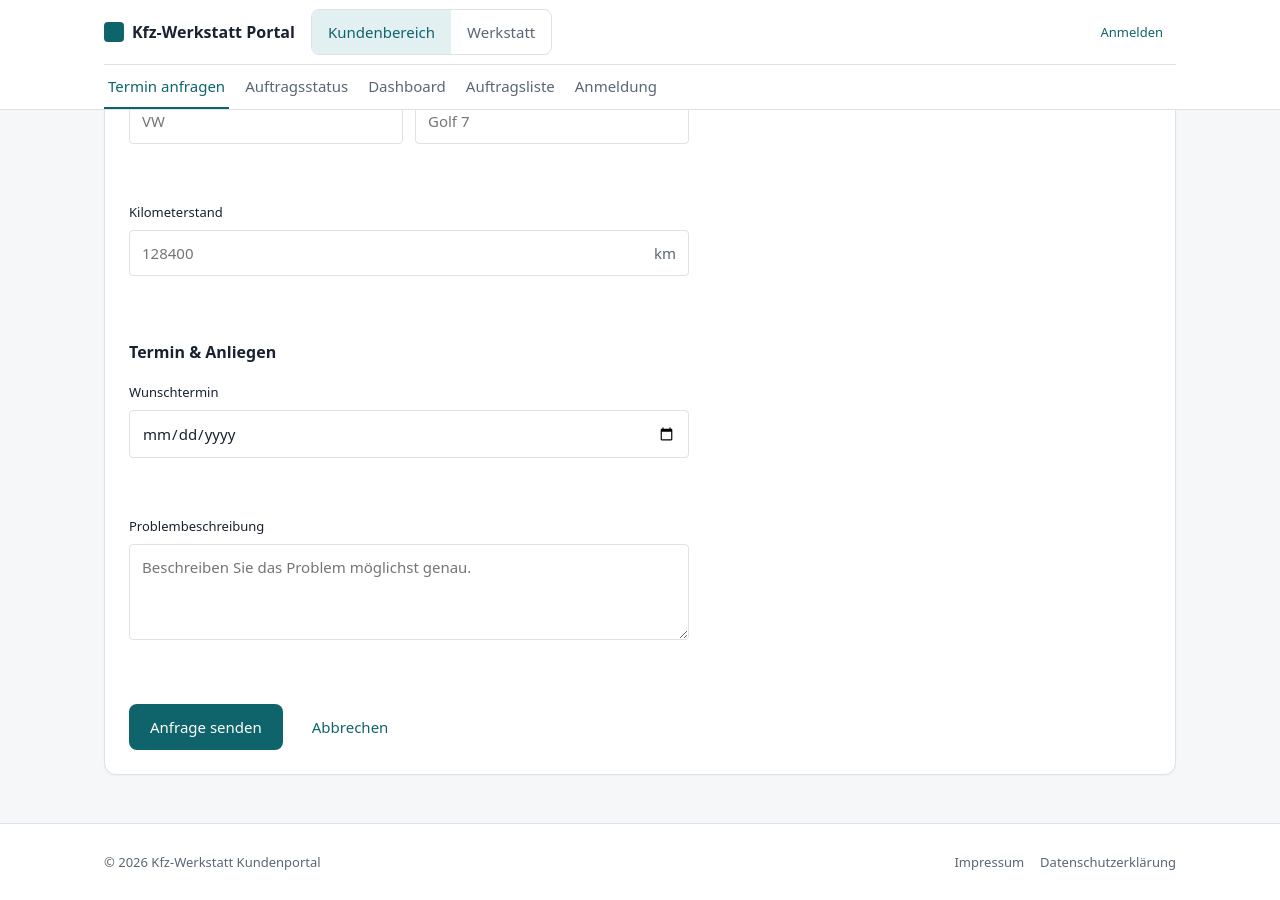
Scenario: footer legal links › opens the Datenschutzerklärung from another page
This screenshot has width=1280, height=900.
(page scrolled)
Click the link "Datenschutzerklärung" at (1108, 862), box [1040,853,1176,871]
(page scrolled)
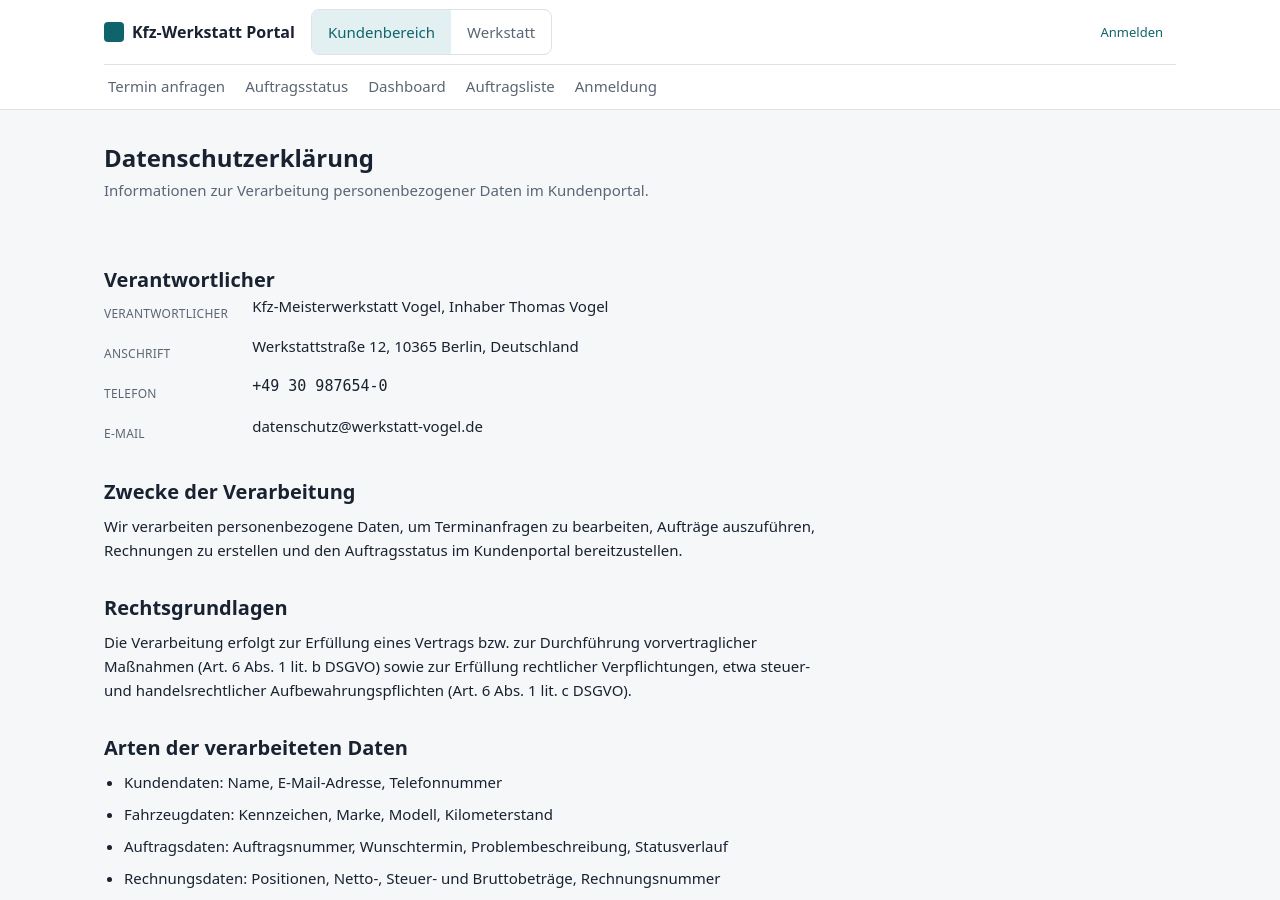
Now the heading "Datenschutzerklärung" is shown, box [104,141,374,174]
